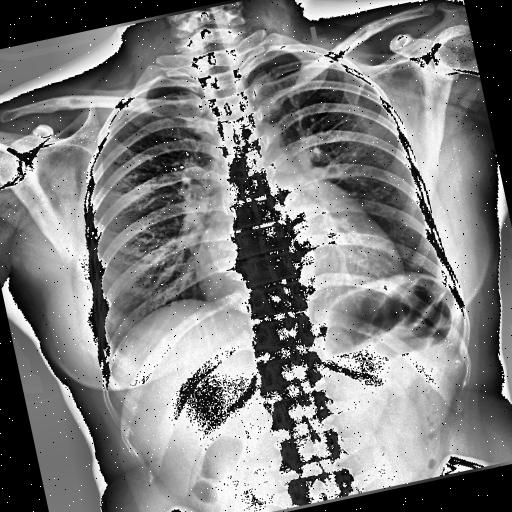3- Cardiomegaly: (182, 186, 402, 319), (185, 196, 406, 322), (184, 196, 406, 316)
